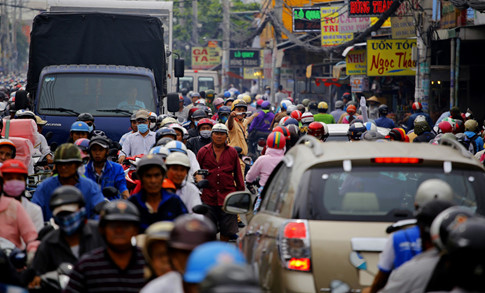police: (220, 97, 264, 194)
